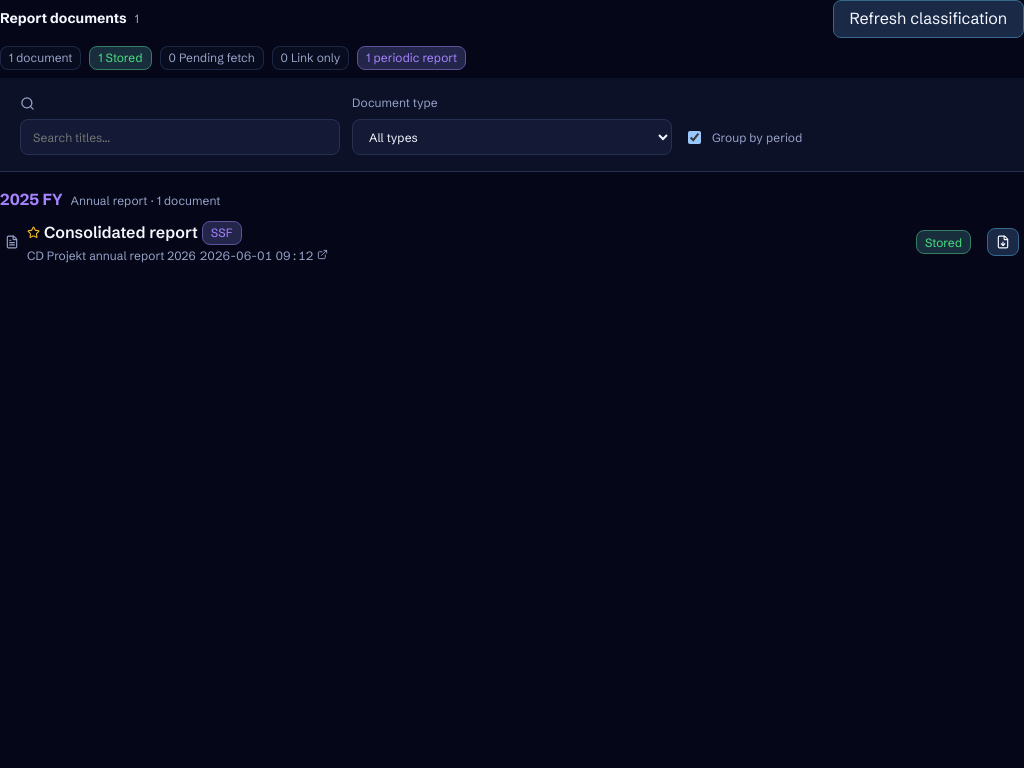
CompanyReportDocumentsPanel › offers an Extract data action on a stored document and reports the produced-fact count
Click the button named "Extract data".
click(1003, 242)  # box [987,228,1019,256]
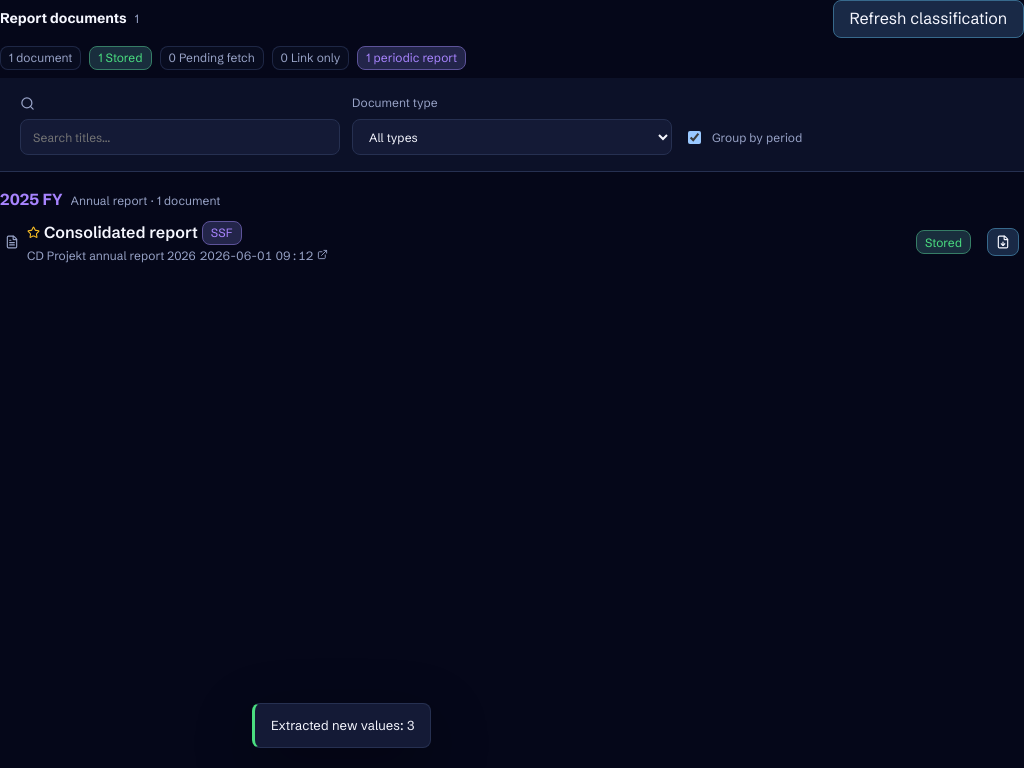
Expected: the text "Extracted new values: 3" is shown, [271,716,414,735]
